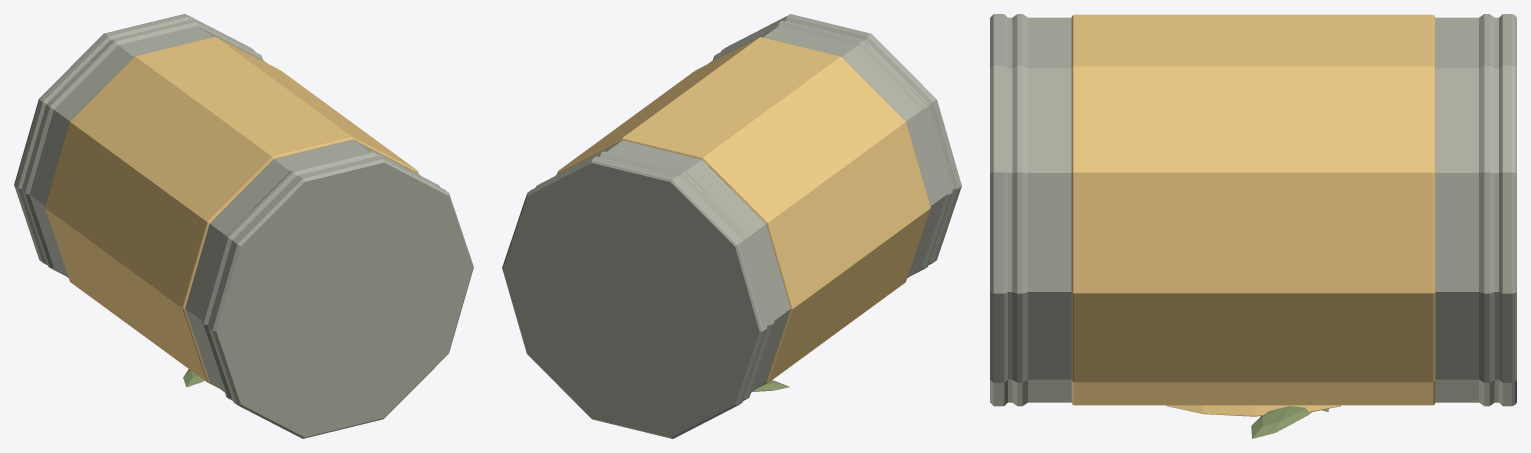
Rendered from canned_corn.glb.
3 renders of one model, left to right at view 1: azimuth 30°, elevation 25°; view 2: azimuth 150°, elevation 25°; view 3: azimuth 270°, elevation 25°, orthographic. The views are drawn at different scales.
Parts seen in each view (by area): view 1: canned_corn; view 2: canned_corn; view 3: canned_corn.
Part boxes in pixels (left/top/right/bottom): canned_corn: left=14, top=14, right=473, bottom=438; canned_corn: left=502, top=14, right=961, bottom=438; canned_corn: left=990, top=14, right=1516, bottom=438.
Bounding box in the file's own units: 0.075 × 0.0767 × 0.1.
